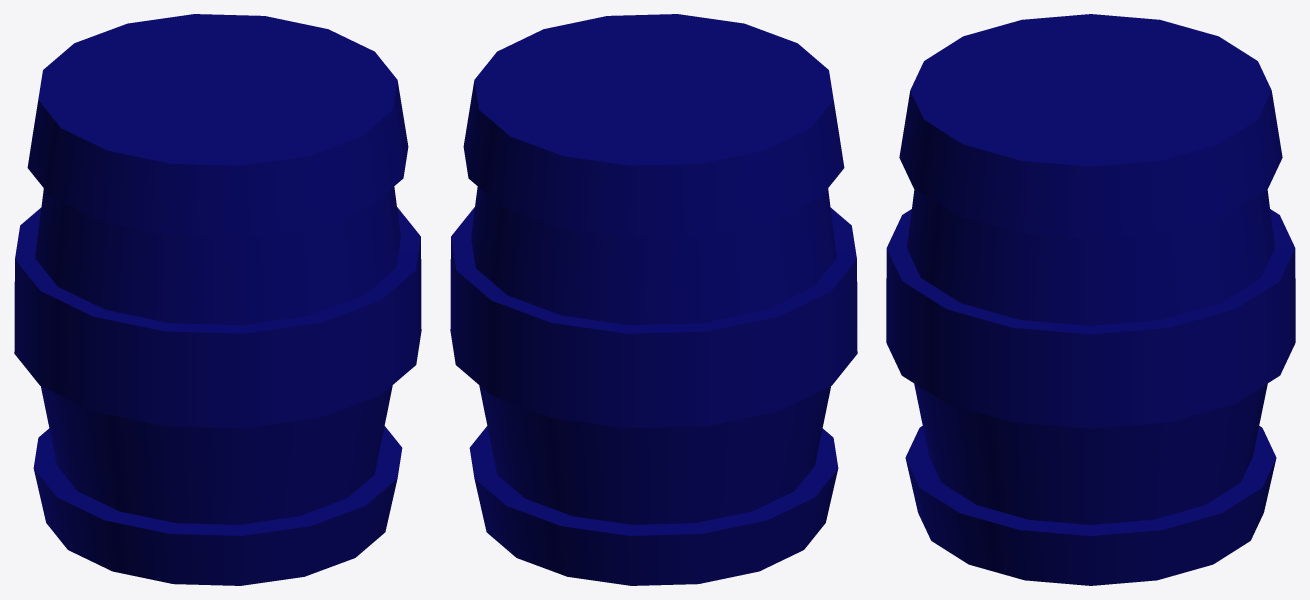
The model's file is Barril.fbx.
The picture shows the model from 3 angles, left to right: view 1: azimuth 30°, elevation 25°; view 2: azimuth 150°, elevation 25°; view 3: azimuth 270°, elevation 25°; orthographic projection.
Parts seen in each view (by area): view 1: pasted__pCylinder9; view 2: pasted__pCylinder9; view 3: pasted__pCylinder9.
Part boxes in pixels (x1=…): pasted__pCylinder9: x1=14, y1=14, x2=421, y2=585; pasted__pCylinder9: x1=450, y1=14, x2=857, y2=585; pasted__pCylinder9: x1=886, y1=14, x2=1295, y2=585.
Size of the model in its own units: 1.65 by 1.87 by 1.65.
